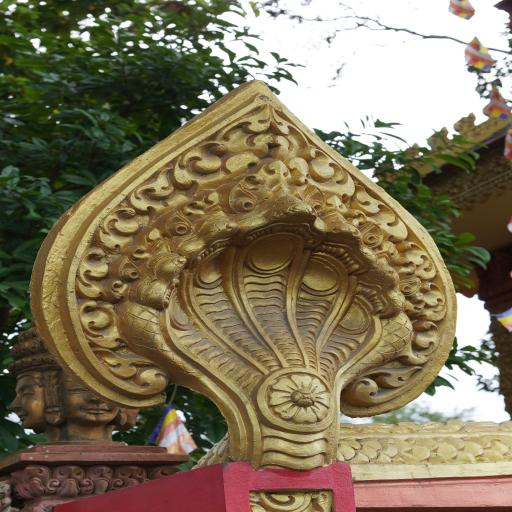la: (52, 462, 95, 500), (18, 464, 59, 502), (114, 463, 150, 495), (85, 462, 118, 495)
ran: (27, 68, 462, 472)
than: (5, 309, 143, 450), (58, 367, 120, 425), (13, 372, 53, 432)
